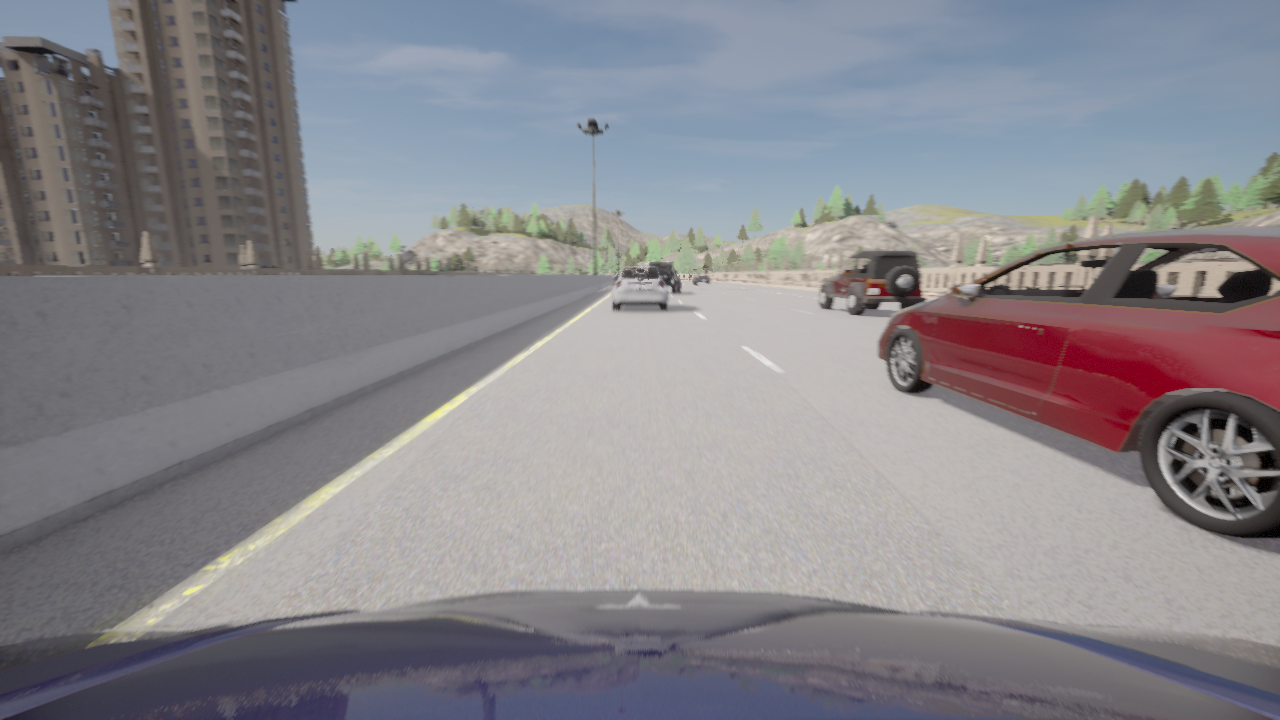cyclist: (0, 588, 1279, 719), (877, 226, 1279, 538), (818, 249, 926, 315), (612, 266, 668, 310), (650, 262, 680, 293), (693, 271, 710, 284)
